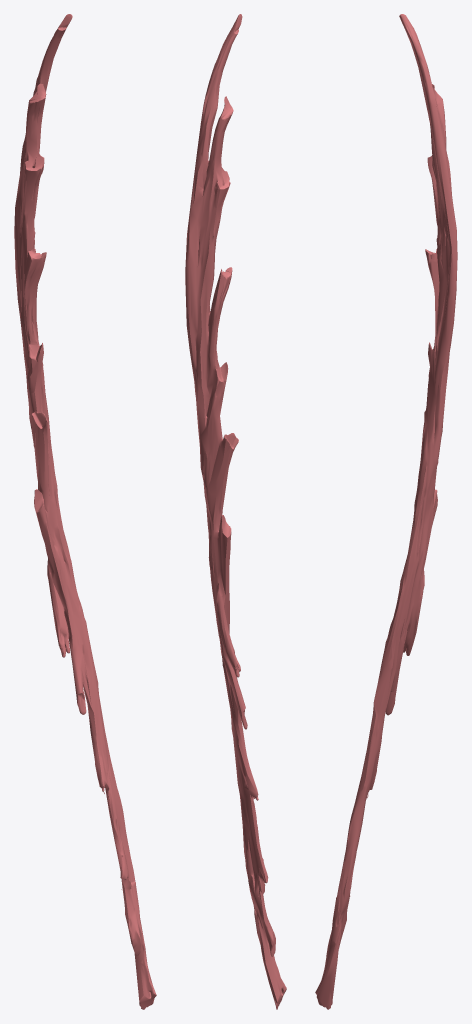
The picture shows the model from 3 angles, left to right: view 1: azimuth 90°, elevation 25°; view 2: azimuth 150°, elevation 25°; view 3: azimuth 270°, elevation 25°; orthographic projection. The views are drawn at different scales.
Visible parts, largest first — view 1: FJ1544M; view 2: FJ1544M; view 3: FJ1544M.
Part boxes in pixels (x1,y1,x2,y2): FJ1544M: [14, 14, 156, 1009]; FJ1544M: [185, 14, 286, 1009]; FJ1544M: [315, 14, 457, 1009].
Size of the model in its own units: 0.0143 by 0.3586 by 0.0465.
